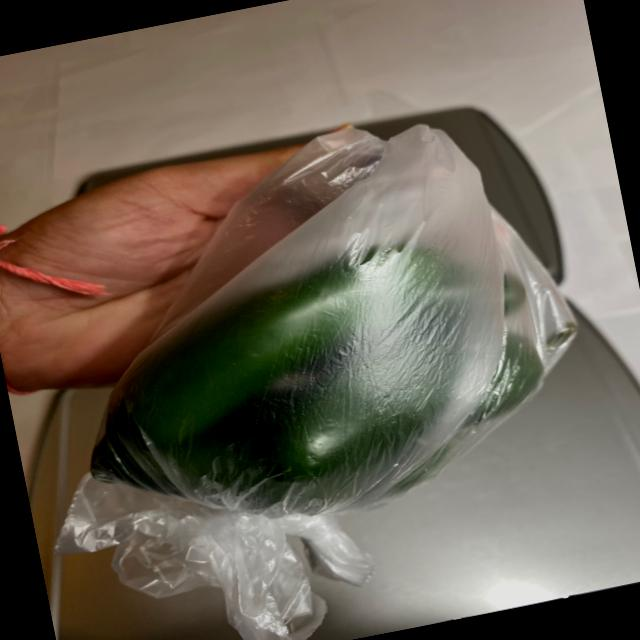chilli: (45, 188, 632, 558)
